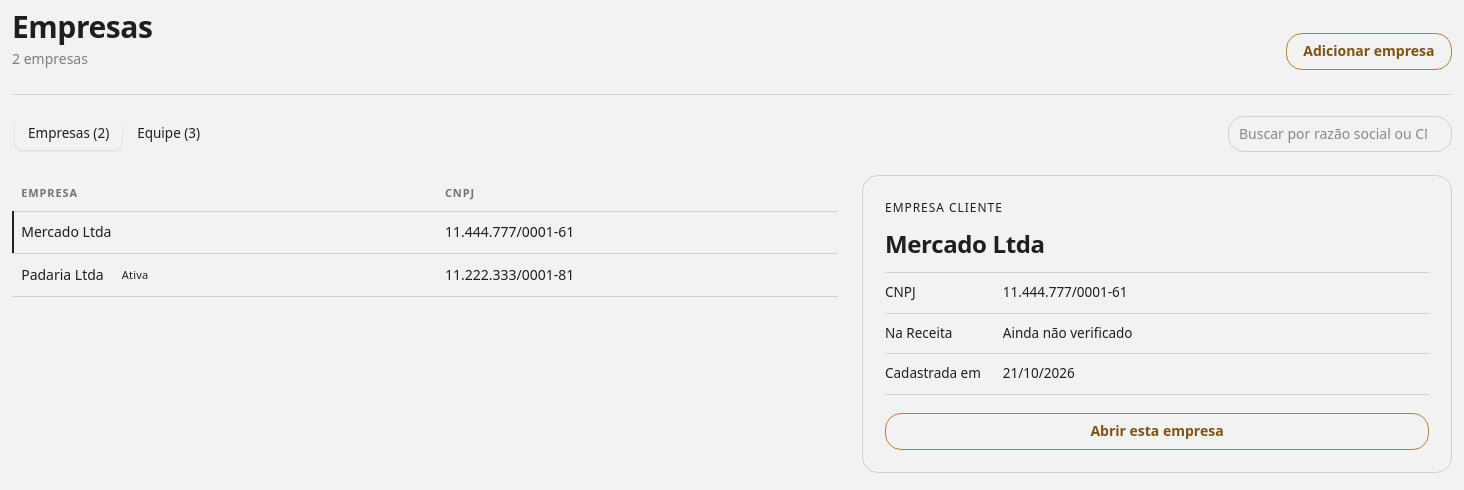
Test case: a lista das empresas e o painel › a busca acha pelo nome ou pelo CNPJ, com ou sem a máscara
Type "padaria" into the search field labelled "Buscar por razão social ou CNPJ" at point(1340, 134), box [1228, 116, 1452, 152]
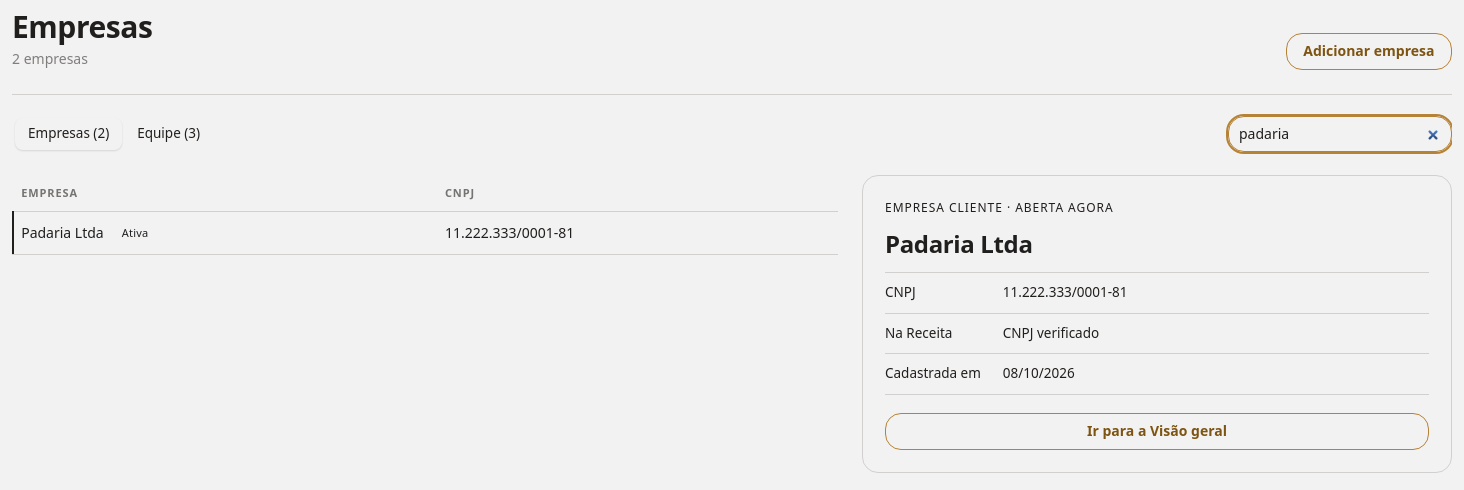
Result: the button "Mercado Ltda" is gone
Result: the heading "Padaria Ltda" is shown at [885, 227, 1033, 260]
Replace the text in the search field named "Buscar por razão social ou CNPJ" with "11.444" at point(1340, 134), box [1228, 116, 1452, 152]
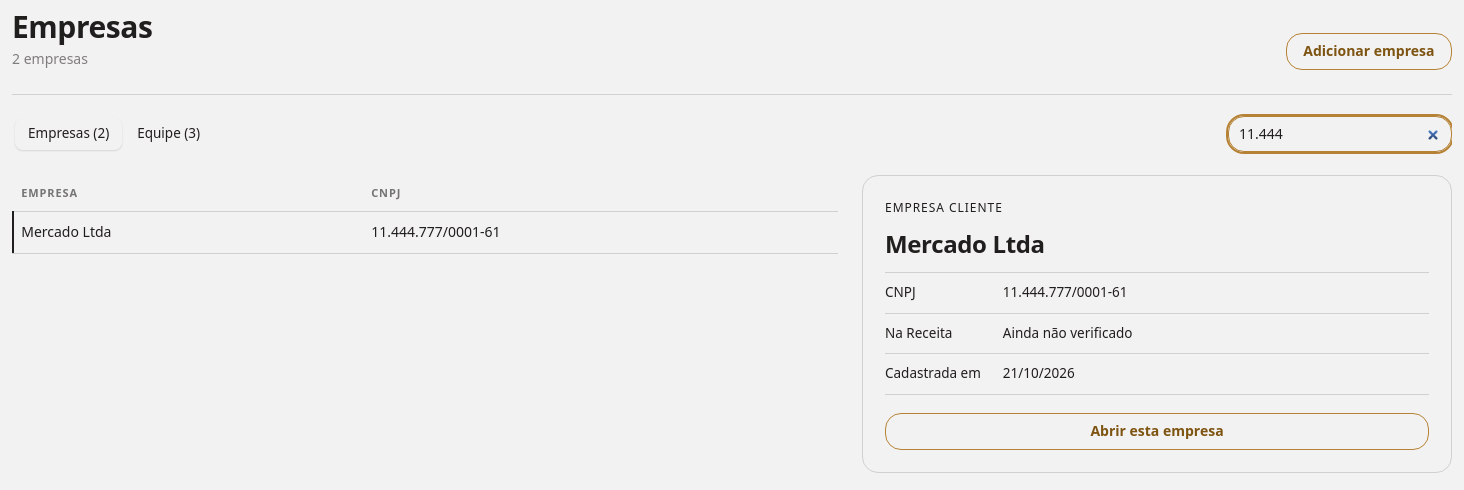
Expected: the button "Padaria Ltda" is not shown
Replace the text in the search field named "Buscar por razão social ou CNPJ" with "zzz" at point(1340, 134), box [1228, 116, 1452, 152]
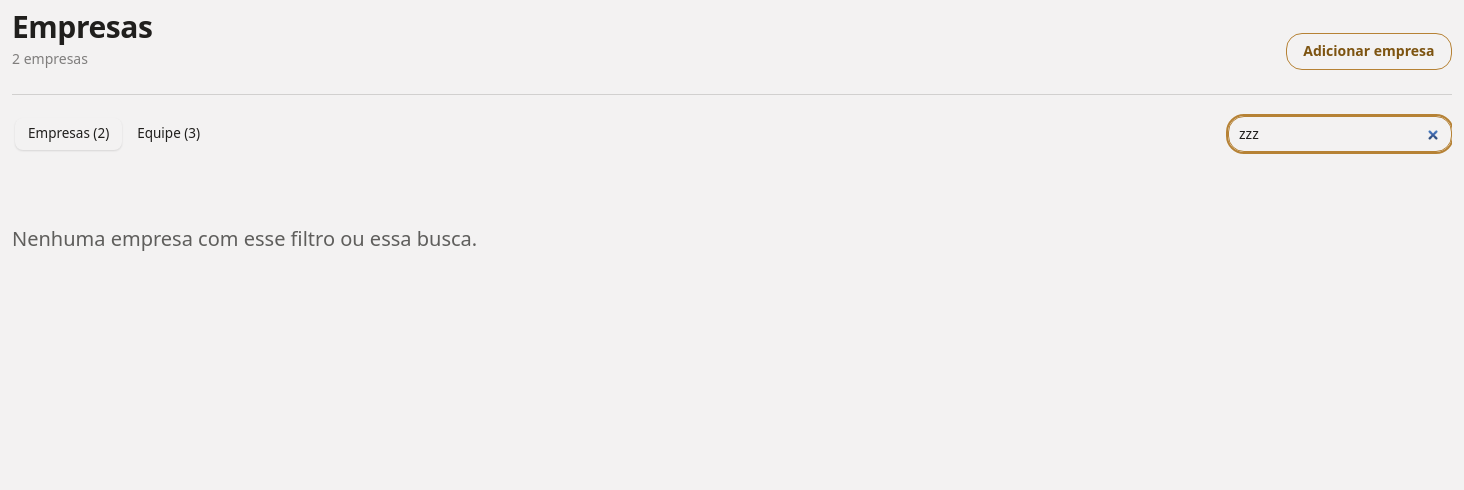
Result: the text "Nenhuma empresa com esse filtro ou essa busca." is shown at [12, 225, 477, 252]
